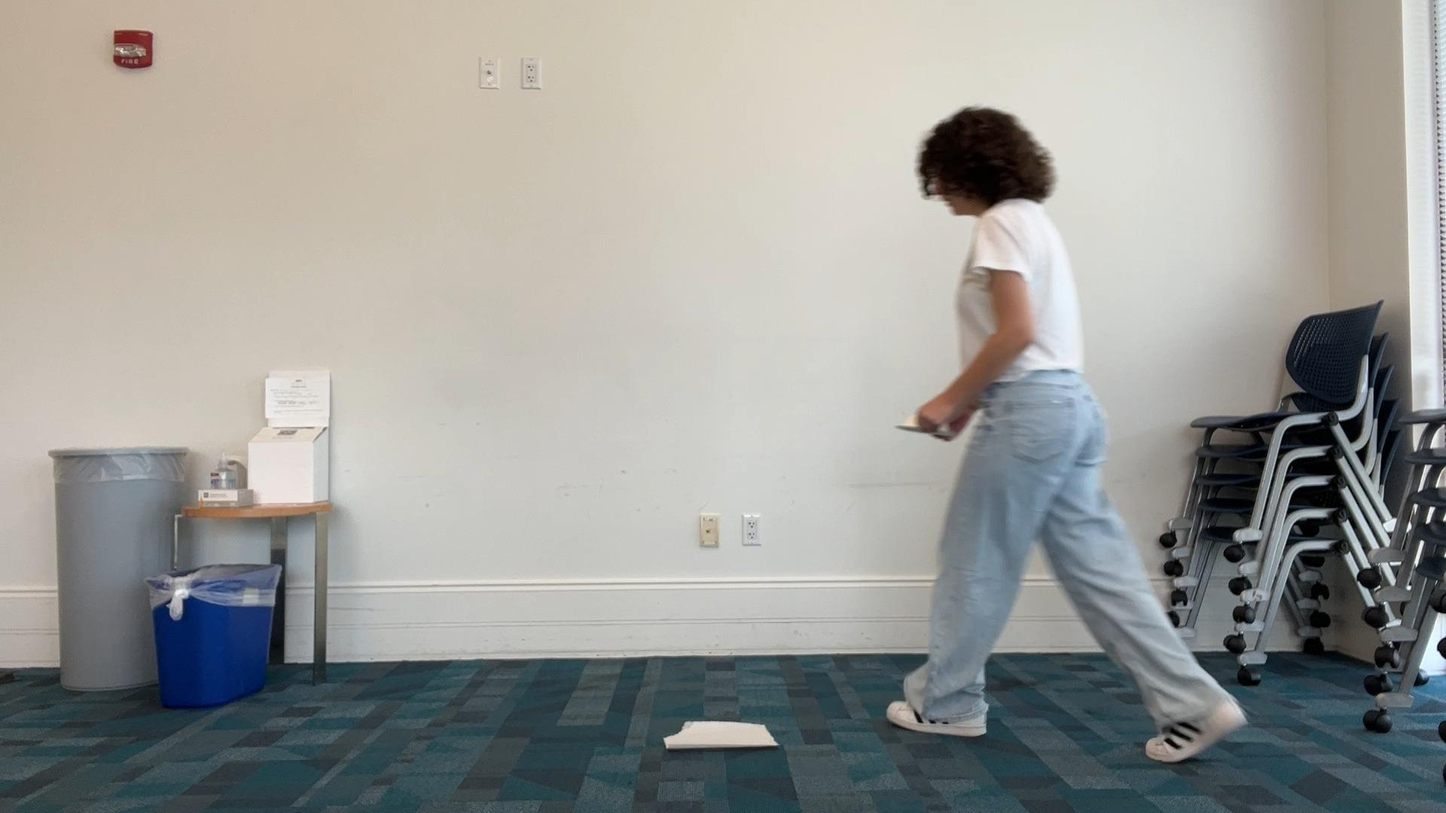Trash: (651, 697, 793, 774)
